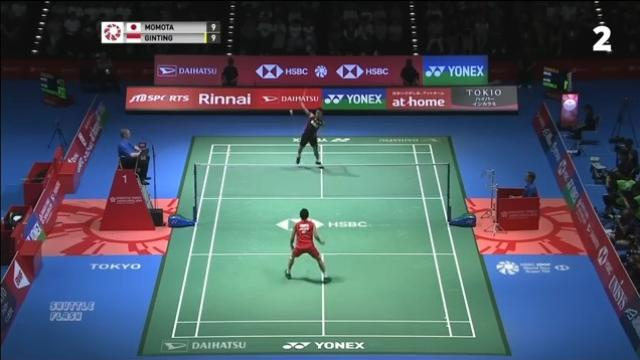Shuttlecock: (287, 106, 297, 118)
